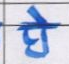e_matra: (27, 5, 48, 22)
